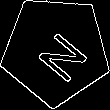N_NW: (25, 19, 87, 82)
